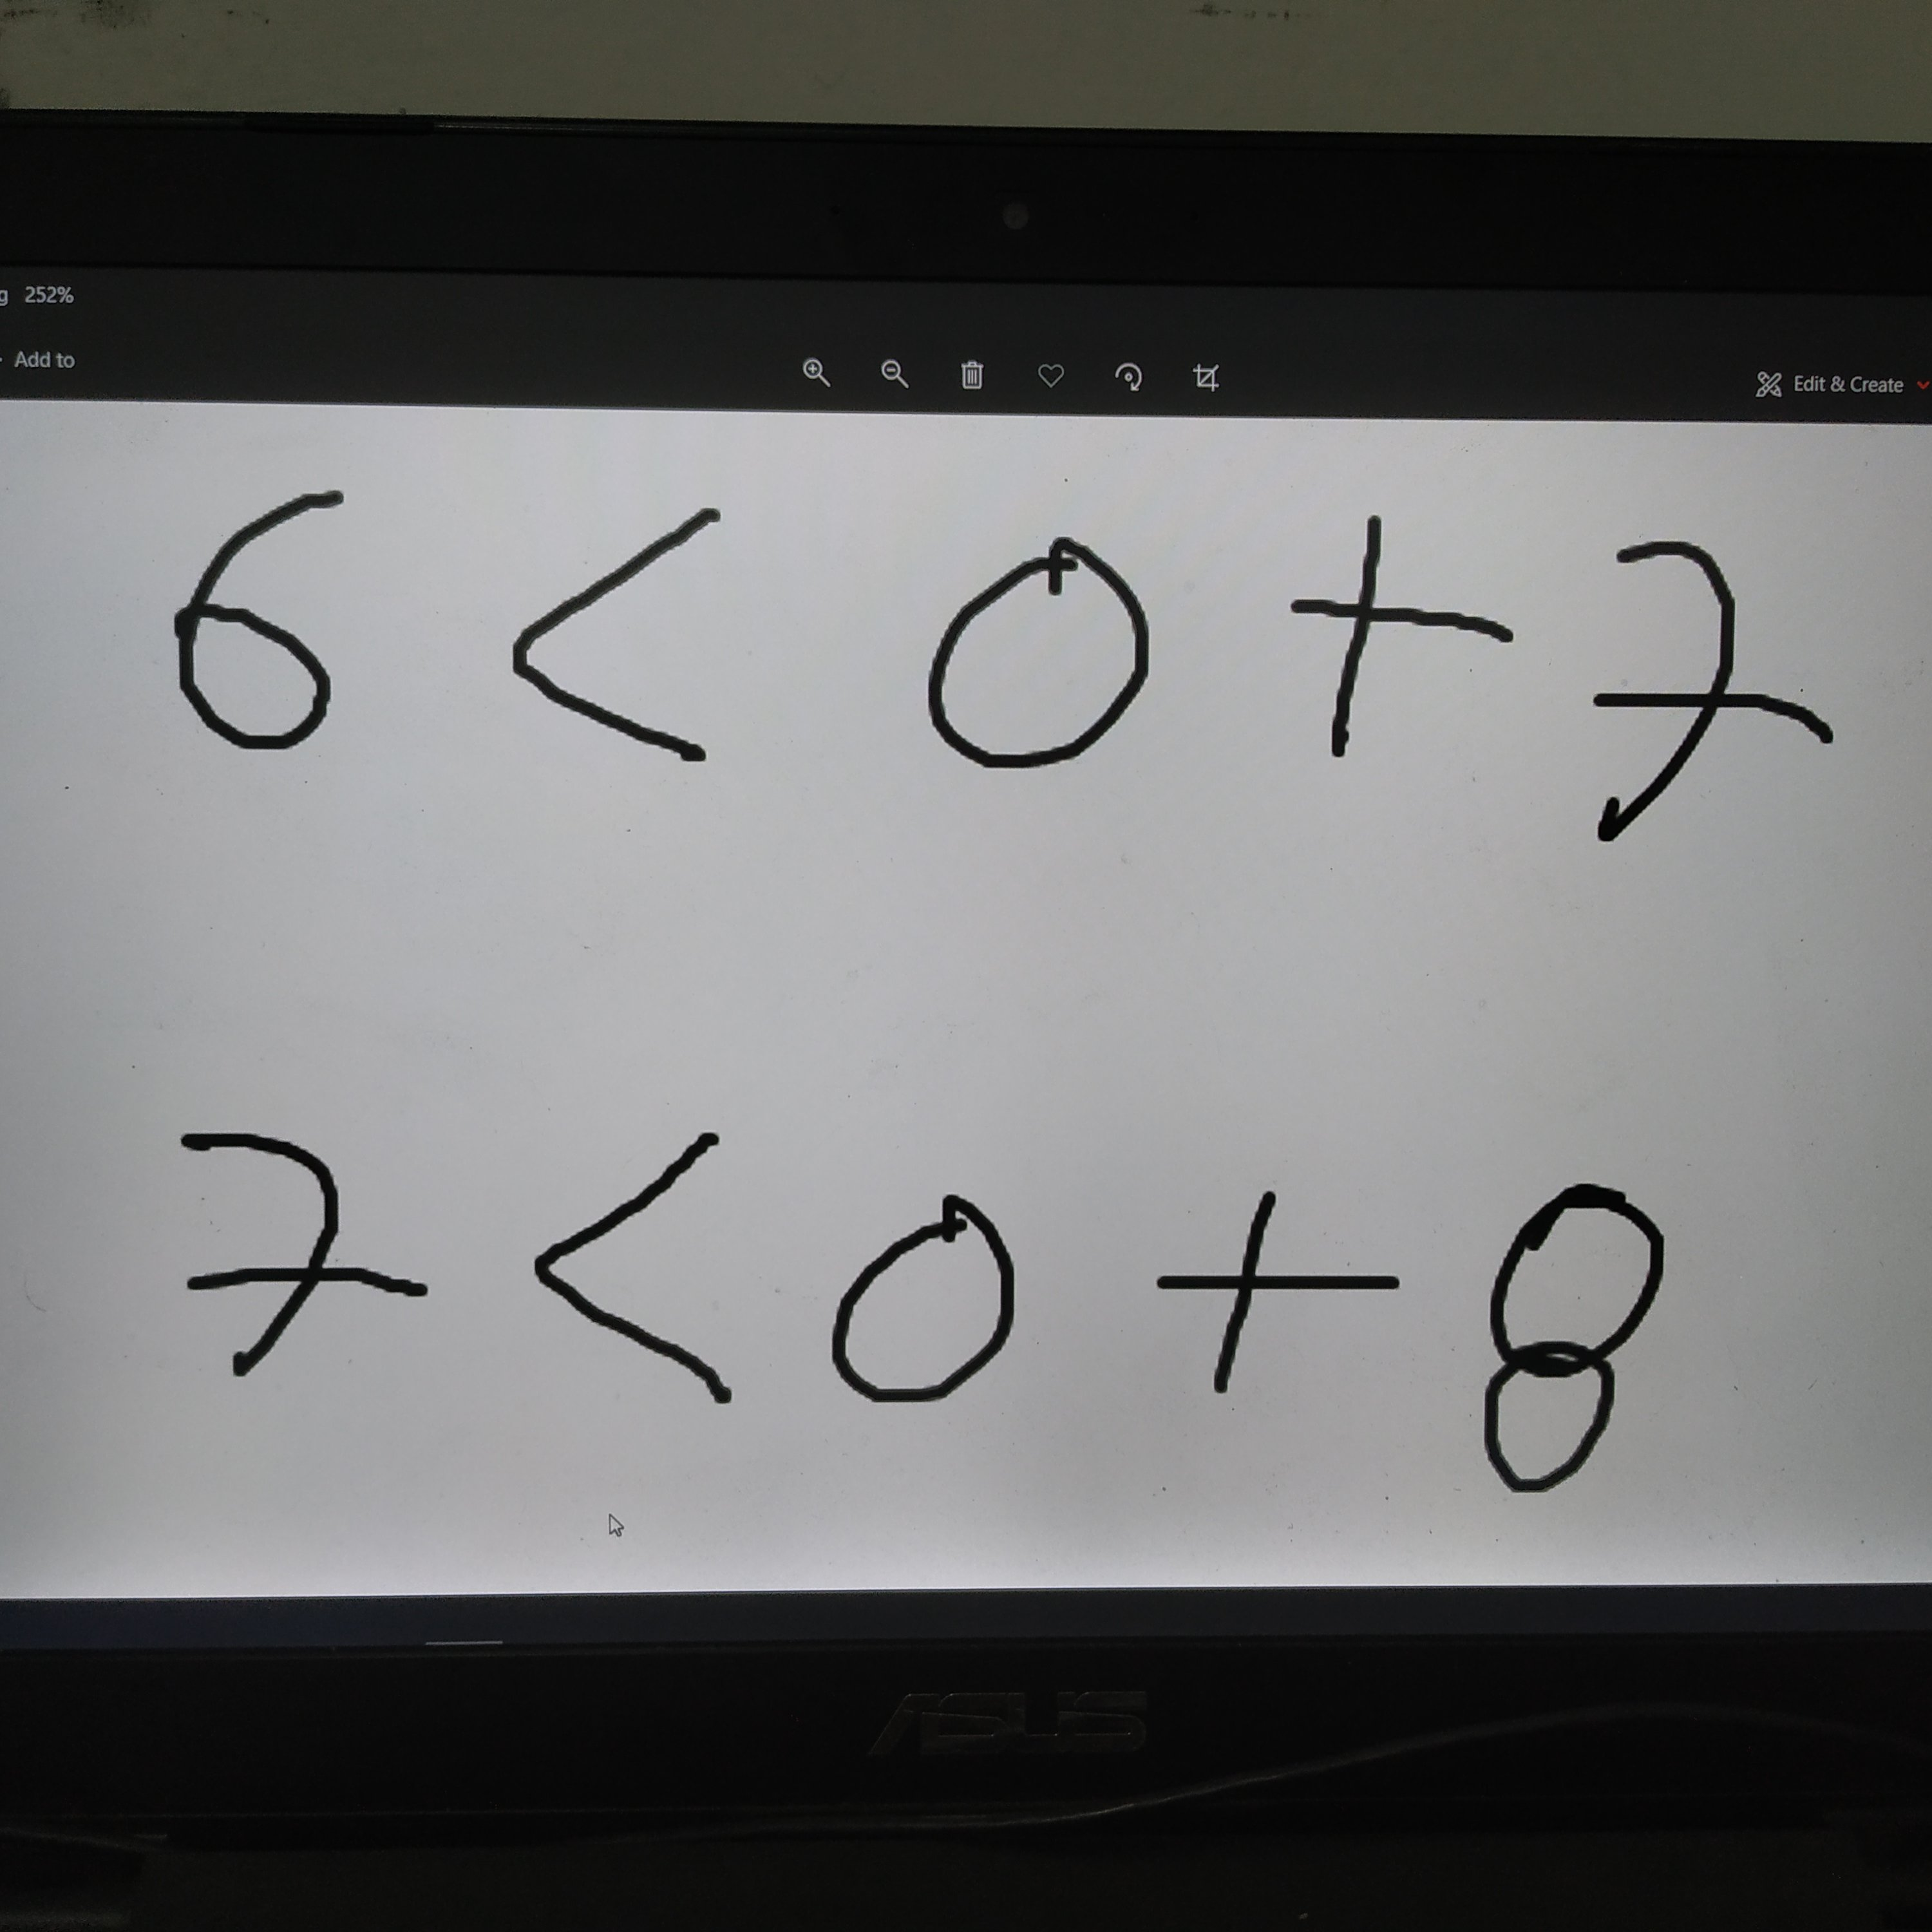lessthan: (493, 491, 772, 774), (514, 1110, 754, 1432)
num0: (904, 528, 1191, 788), (815, 1186, 1050, 1422)
num6: (162, 471, 374, 774)
num7: (1562, 522, 1853, 850), (149, 1108, 450, 1408)
num8: (1466, 1168, 1687, 1514)
sum: (1267, 501, 1540, 780), (1135, 1172, 1421, 1420)
